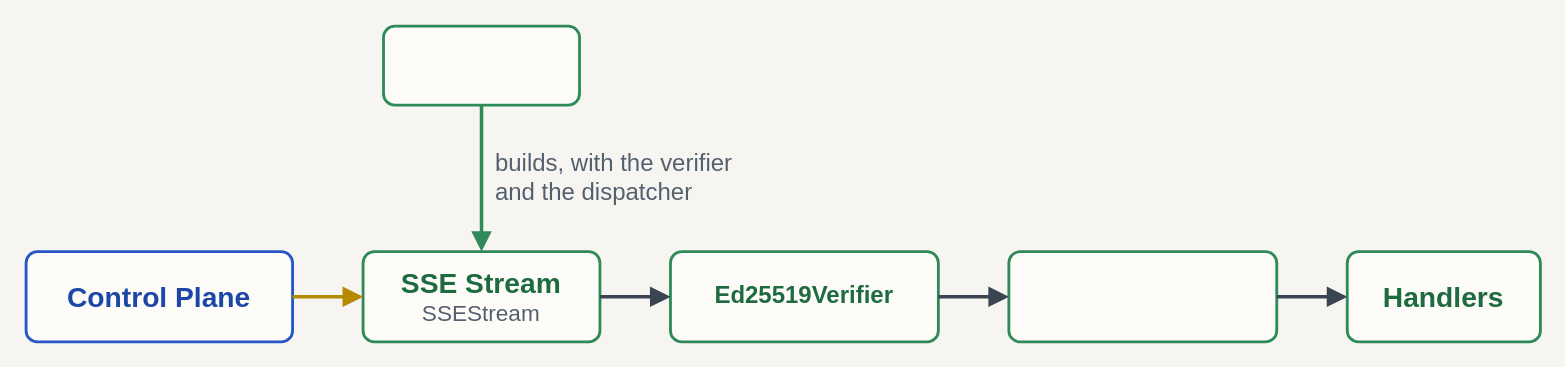
The diagram is 1565 pixels wide and 367 high, and some of its shapes have lost their labels. The centre of each missing label's shape, as x and y in pixels:
"EventDispatcher" goes at [1142,296].
"SSEManager" goes at [480,65].
